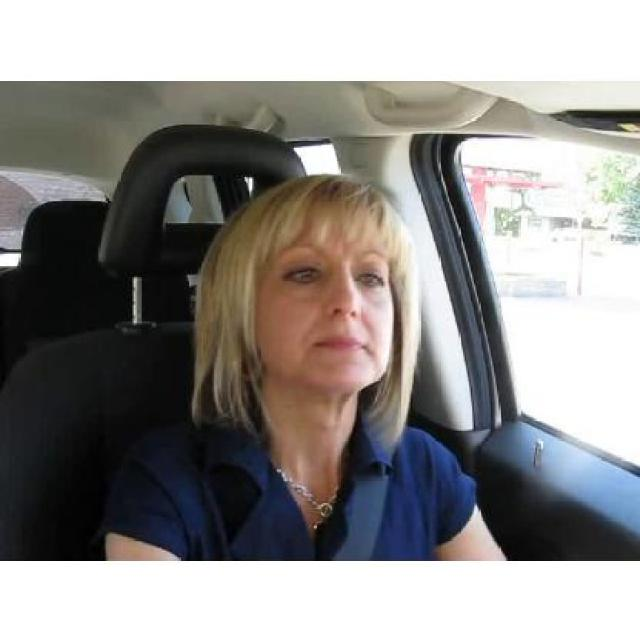attentif: (246, 177, 394, 386)
